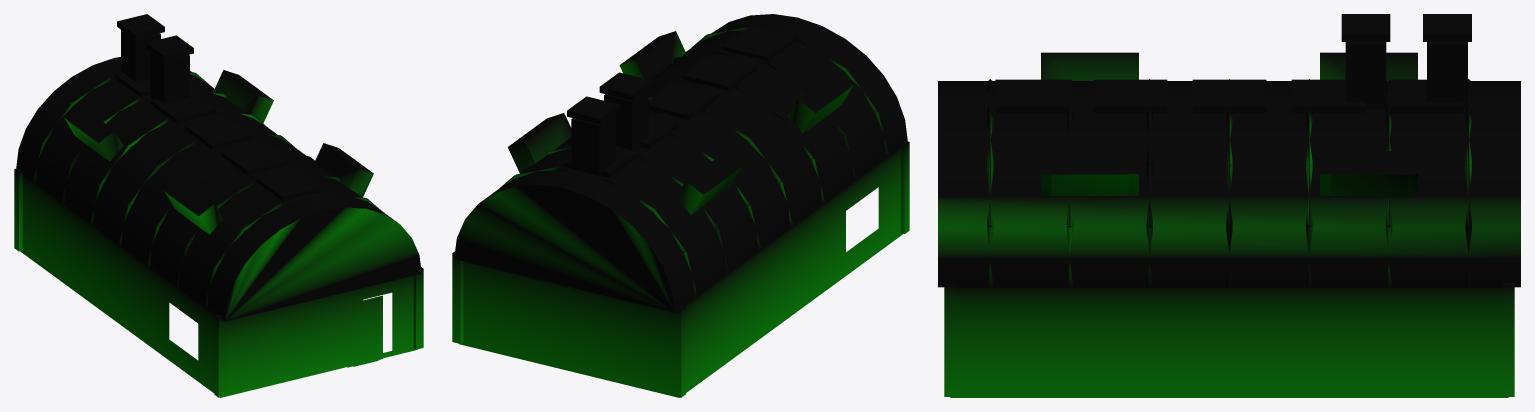
Rendered from singlecivlivingb.glb.
3 views of the same model, side by side, from view 1: azimuth 30°, elevation 25°; view 2: azimuth 150°, elevation 25°; view 3: azimuth 270°, elevation 25° (orthographic). The views are drawn at different scales.
Visible parts, largest first — view 1: lod0; view 2: lod0; view 3: lod0.
Boxes of the visible parts, x1,y1,x2,y2 form: lod0: [14, 14, 423, 397]; lod0: [452, 14, 909, 397]; lod0: [938, 14, 1520, 397].
Size of what is drawn, in the model's own units: 8.1 by 8.3 by 14.3.
